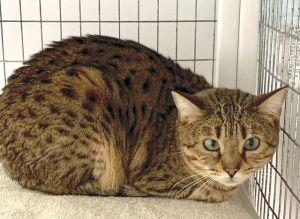bengal: (165, 81, 296, 193)
